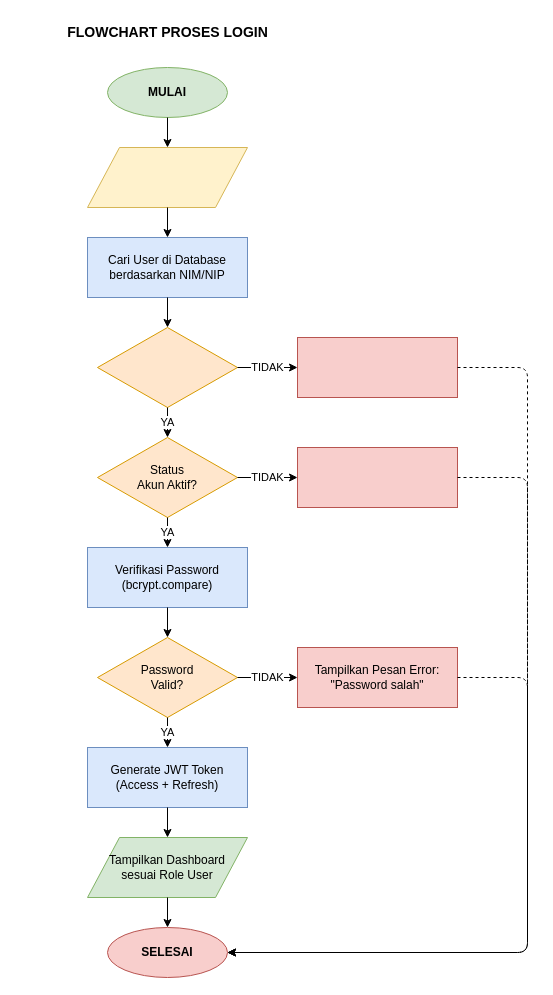
Image size: 553x995. Some labels were removed from this diagram. Each missing label, with the centre of its shape:
Input NIM/NIP dan Password: the point at 167,177
Tampilkan Pesan Error: "Akun tidak aktif": the point at 377,477
Tampilkan Pesan Error: "User tidak ditemukan": the point at 377,367
User Ditemukan?: the point at 167,367
